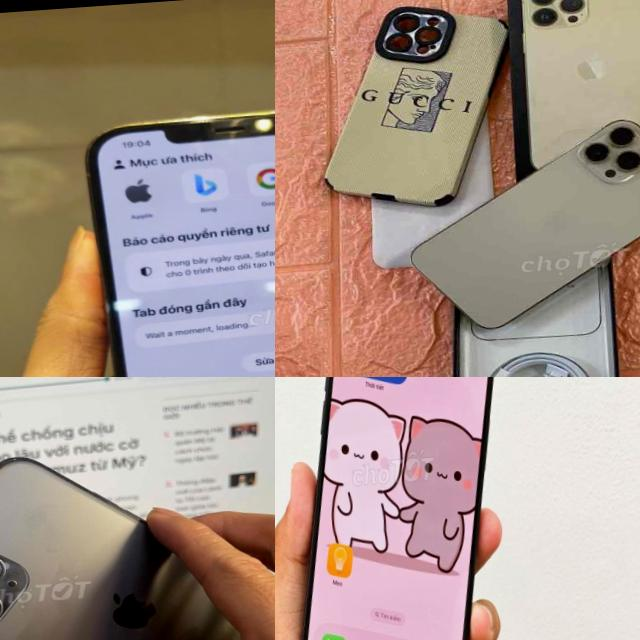gen_11: (0, 422, 275, 640)
gen_12_13: (72, 91, 275, 377), (402, 111, 640, 336)
gen_15: (275, 377, 537, 640)
